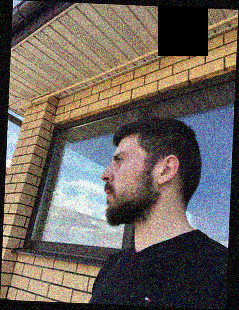without_mask: (99, 144, 144, 226)
